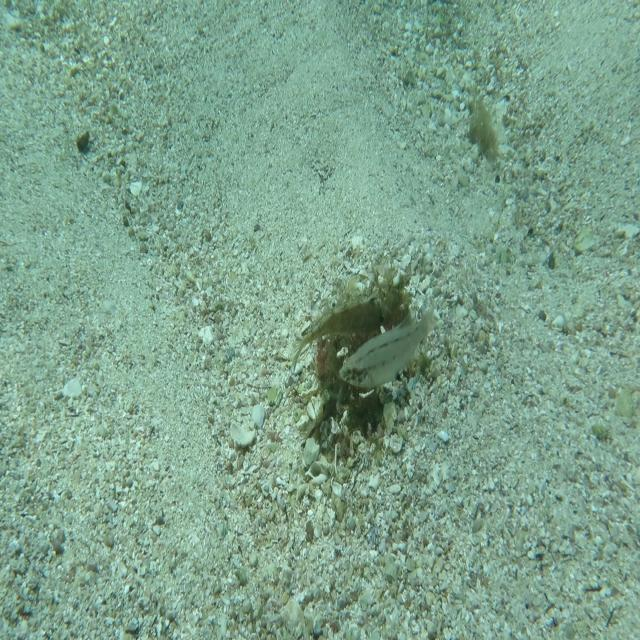ROLL: (286, 282, 392, 375)
female: (337, 303, 439, 394)
nest: (305, 253, 441, 473)
